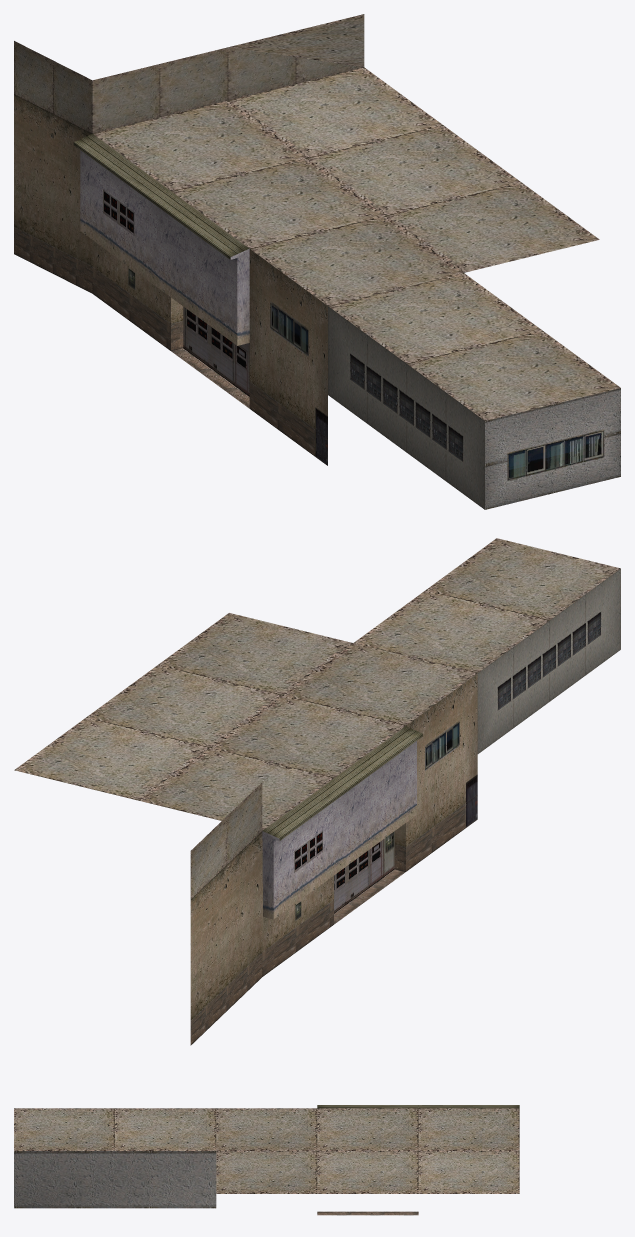
Rendered from M11Z1_TownWall05_C.glb.
3 views of the same model, one above another, from view 1: azimuth 30°, elevation 25°; view 2: azimuth 150°, elevation 25°; view 3: azimuth 270°, elevation 25° (orthographic). The views are drawn at different scales.
Parts seen in each view (by area): view 1: M11Z1_TOWNWALL05_C; view 2: M11Z1_TOWNWALL05_C; view 3: M11Z1_TOWNWALL05_C.
Boxes of the visible parts, x1,y1,x2,y2 form: M11Z1_TOWNWALL05_C: [14, 14, 620, 509]; M11Z1_TOWNWALL05_C: [14, 538, 620, 1045]; M11Z1_TOWNWALL05_C: [14, 1105, 519, 1215].
Size of the model in its own units: 17.12 by 13 by 48.
Materials: 12 (12 with a texture image).
